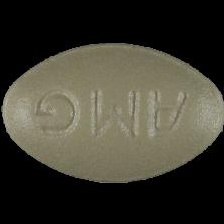53808-0577: (0, 0, 224, 224)
